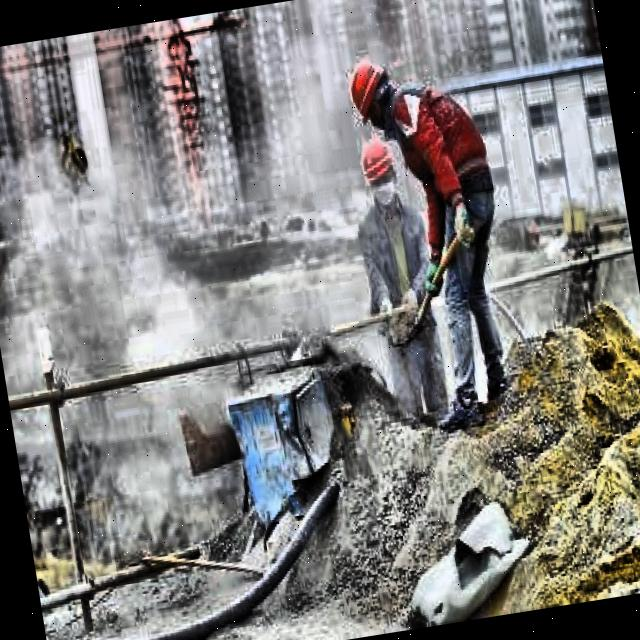helmet: (342, 54, 398, 134), (354, 137, 409, 218)
